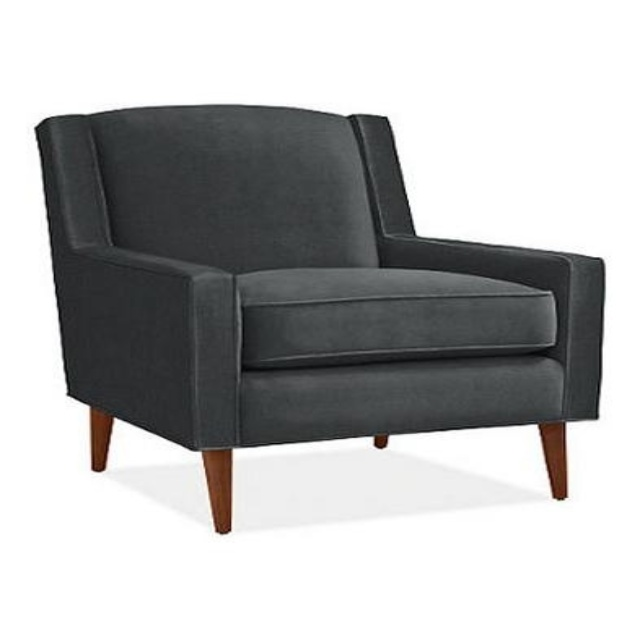obstacle: (37, 105, 603, 531)
